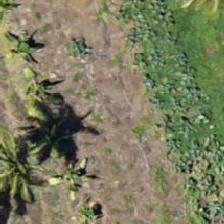Kelapa_Sawit: (0, 122, 60, 212)
